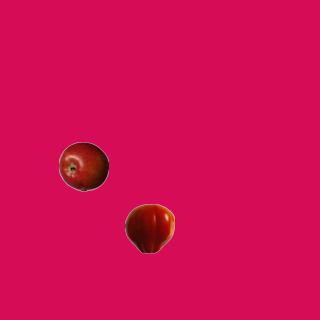Apple Braeburn: (58, 141, 108, 191)
Tomato 1: (124, 203, 174, 253)
